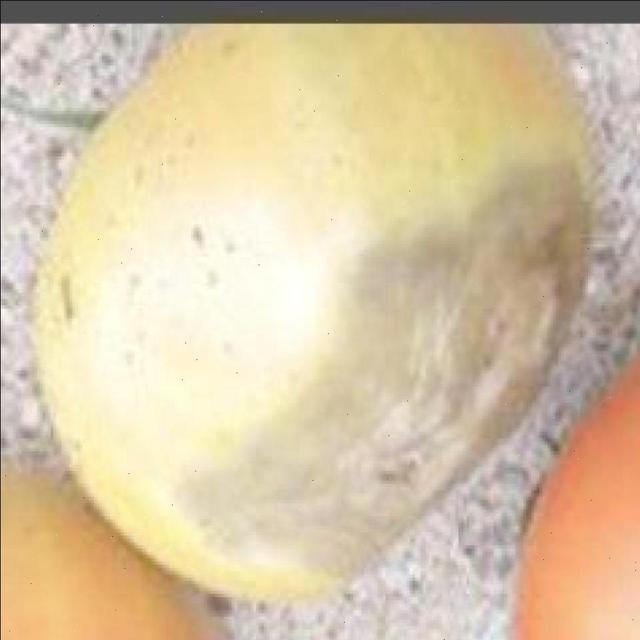Blossom End Rot Fruit: (116, 105, 395, 392)
